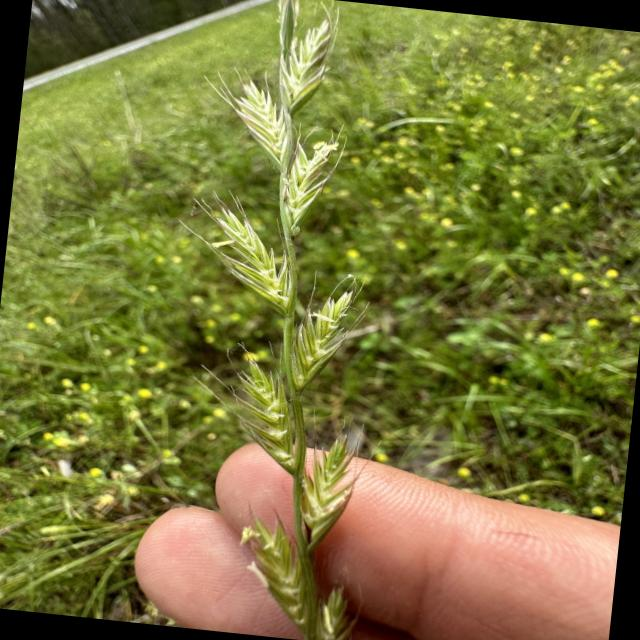Lolium: (134, 0, 422, 640)
